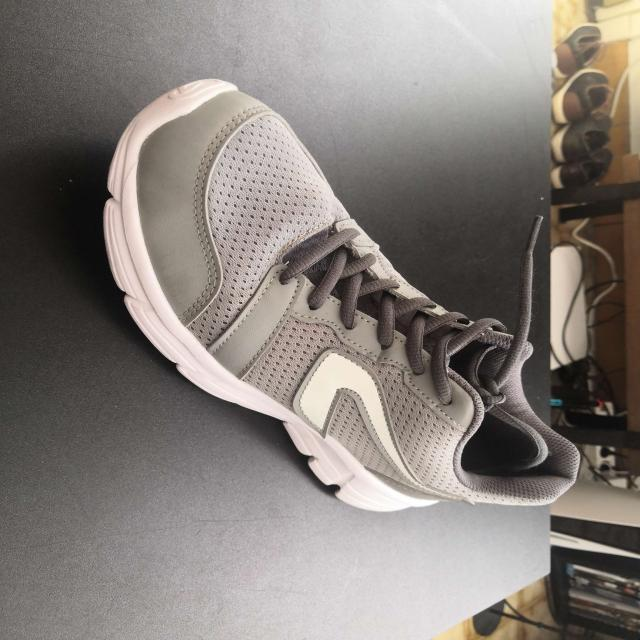shoes: (99, 76, 583, 514)
